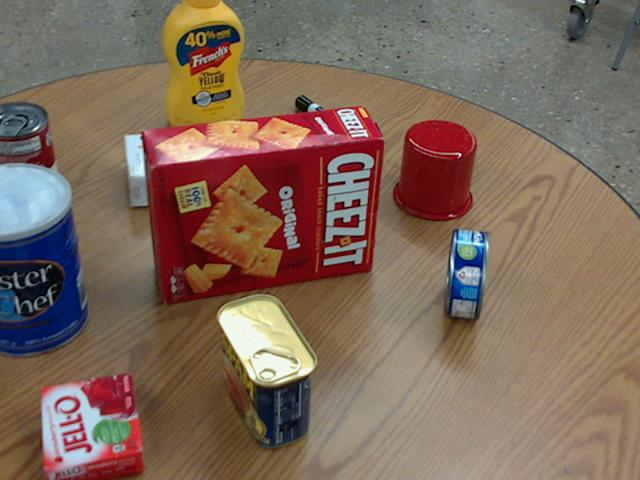cracker_box: (143, 106, 383, 301)
gelatin_box: (40, 372, 142, 479)
large_marker: (295, 94, 364, 144)
master_chef_can: (0, 164, 87, 356)
mug: (391, 119, 475, 220)
mustard_bottle: (162, 0, 243, 129)
potted_meat_can: (216, 293, 314, 447)
sugar_box: (123, 124, 286, 205)
tomato_soup_can: (0, 101, 60, 214)
tuna_fish_can: (443, 228, 487, 318)
